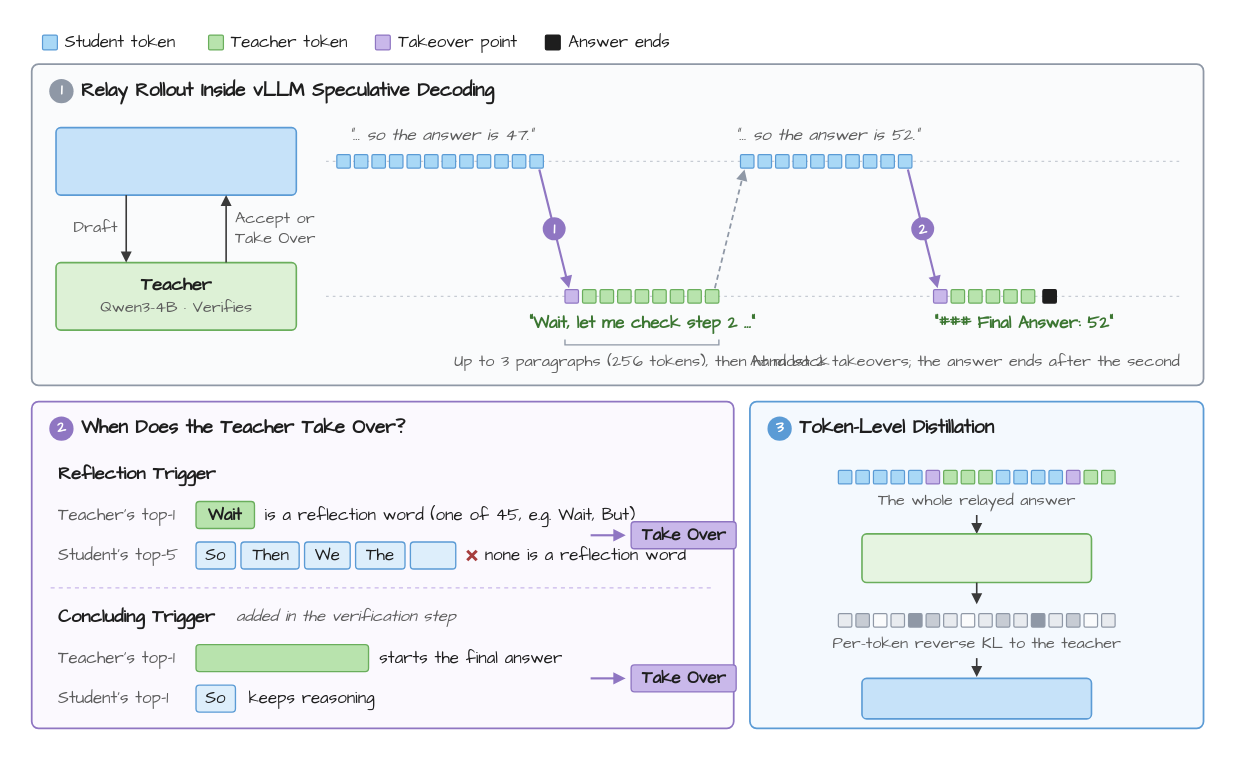
Image size: 1234x759. Some labels were removed from this diagram. Here are the shapes that lost their labels. From the top down, the centre of each, then its label:
point 175,160: Student Qwen3-1.7B · Drafts
point 432,555: Let
point 976,557: Teacher Scorer separate GPU
point 282,657: ### Final Answer
point 976,698: Update the Student
